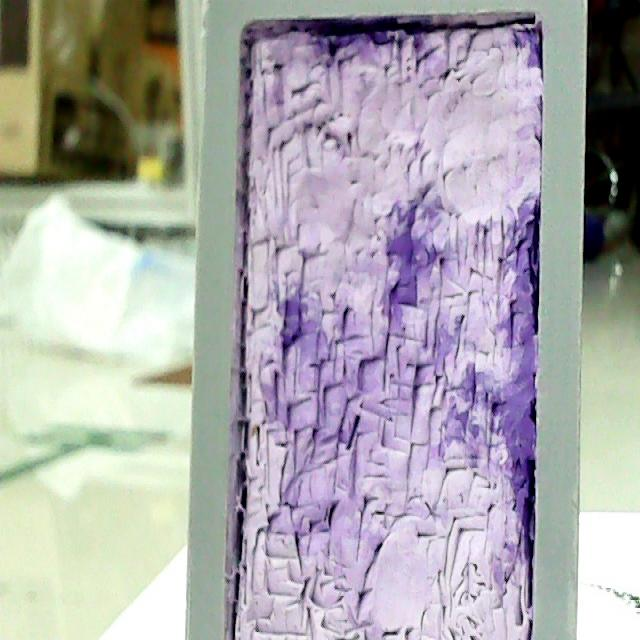block: (183, 4, 592, 634)
